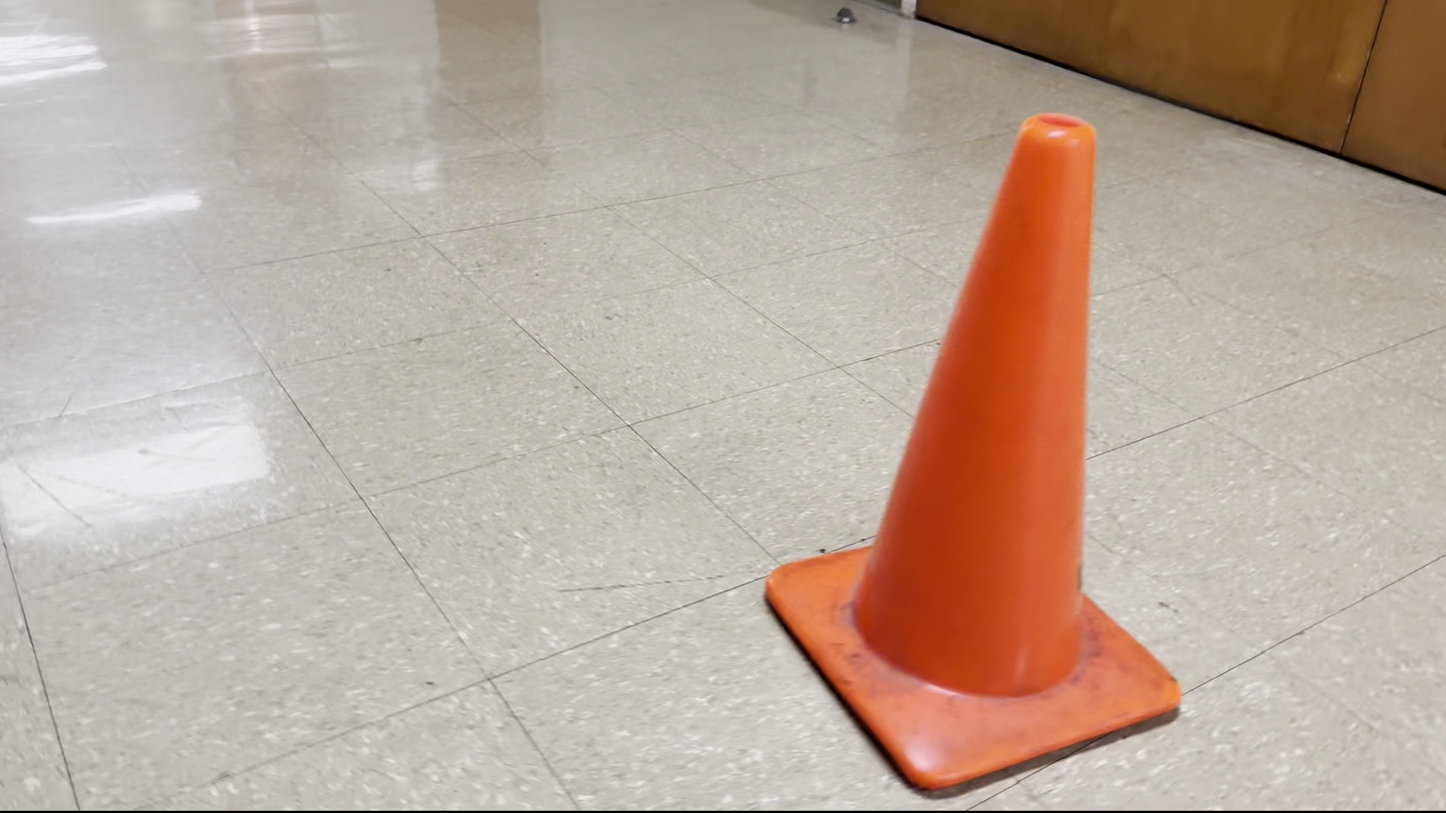traffic_cone: (763, 111, 1182, 793)
